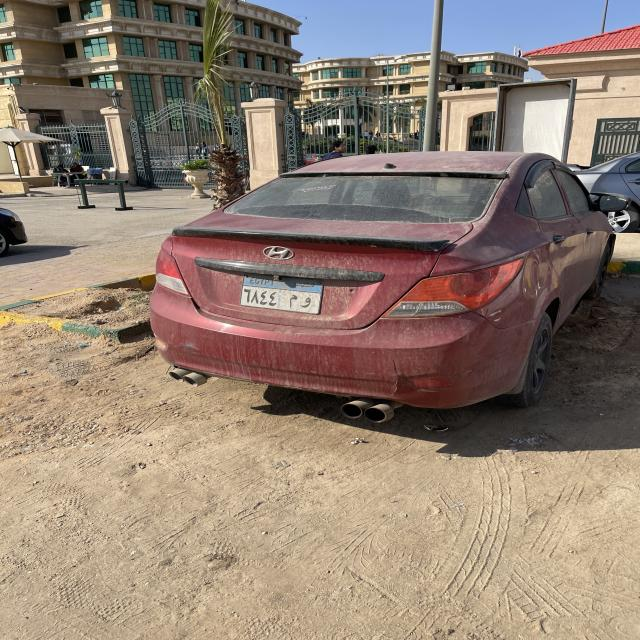License Plate: (241, 272, 324, 314)
